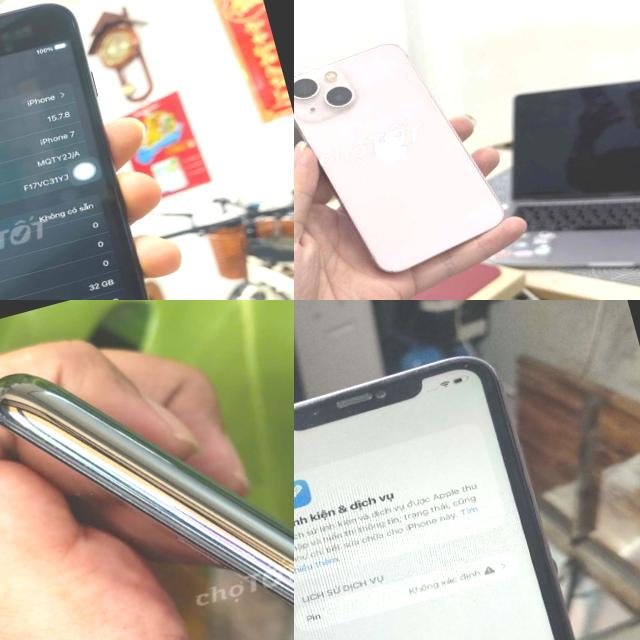gen_11: (294, 336, 629, 640), (0, 373, 294, 640)
gen_12_13: (294, 24, 515, 295)
gen_7_8: (0, 0, 169, 300)
